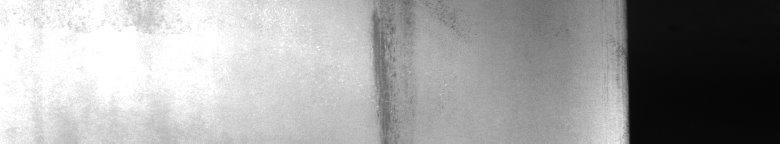hd: (365, 4, 455, 136)
